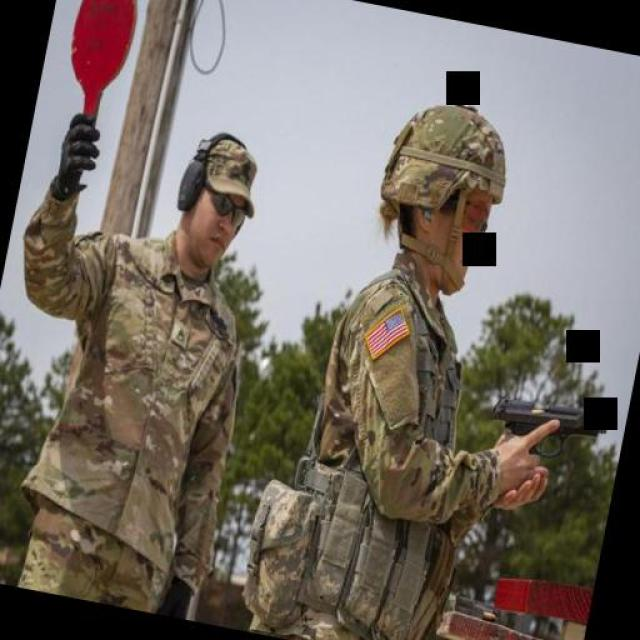gun: (481, 385, 614, 469)
